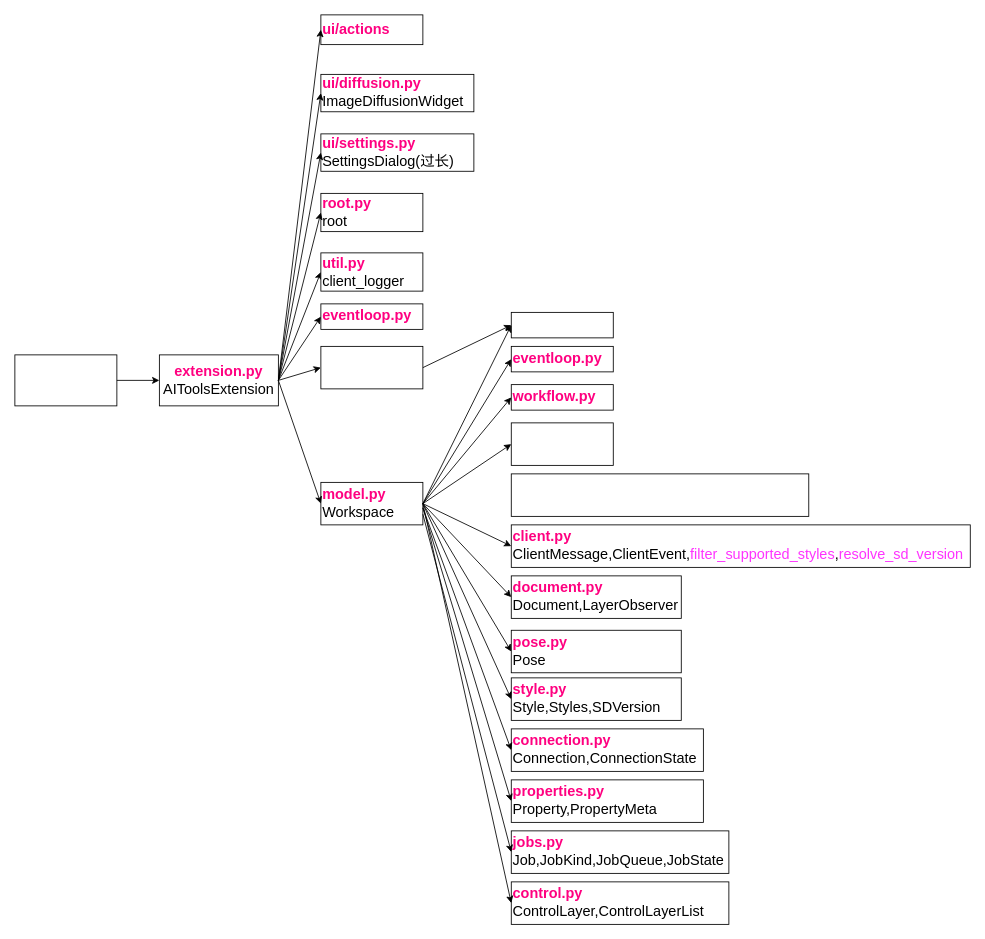
Some shapes in this 985 by 939 pixel diagram are drawn without their labels. The shapes that lost their labels are listed below. From the top down, each one's box as (x1, y1, x2, y2) in pixels, then its label:
(510, 312, 613, 338): util.py
(14, 354, 117, 406): __init__.py
(320, 346, 423, 389): settings.py settings
(510, 422, 613, 465): network.py NetworkError
(510, 473, 809, 516): image.py Extent,Image,ImageCollection,Mask,Bounds
